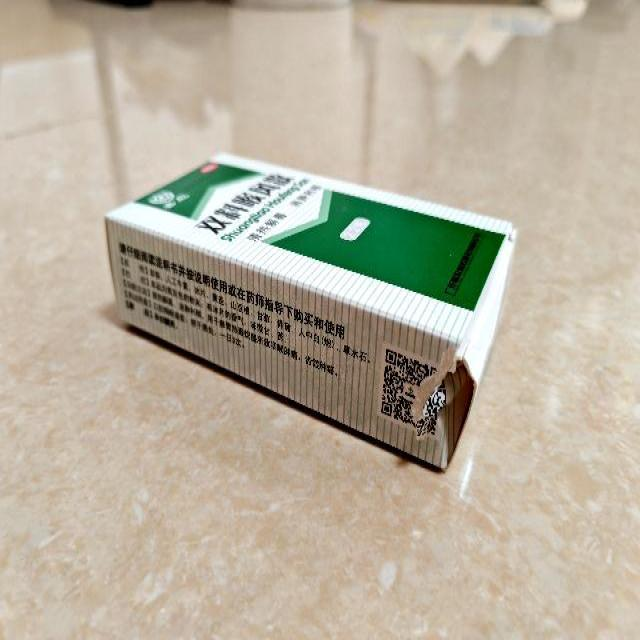box: (102, 152, 514, 472)
